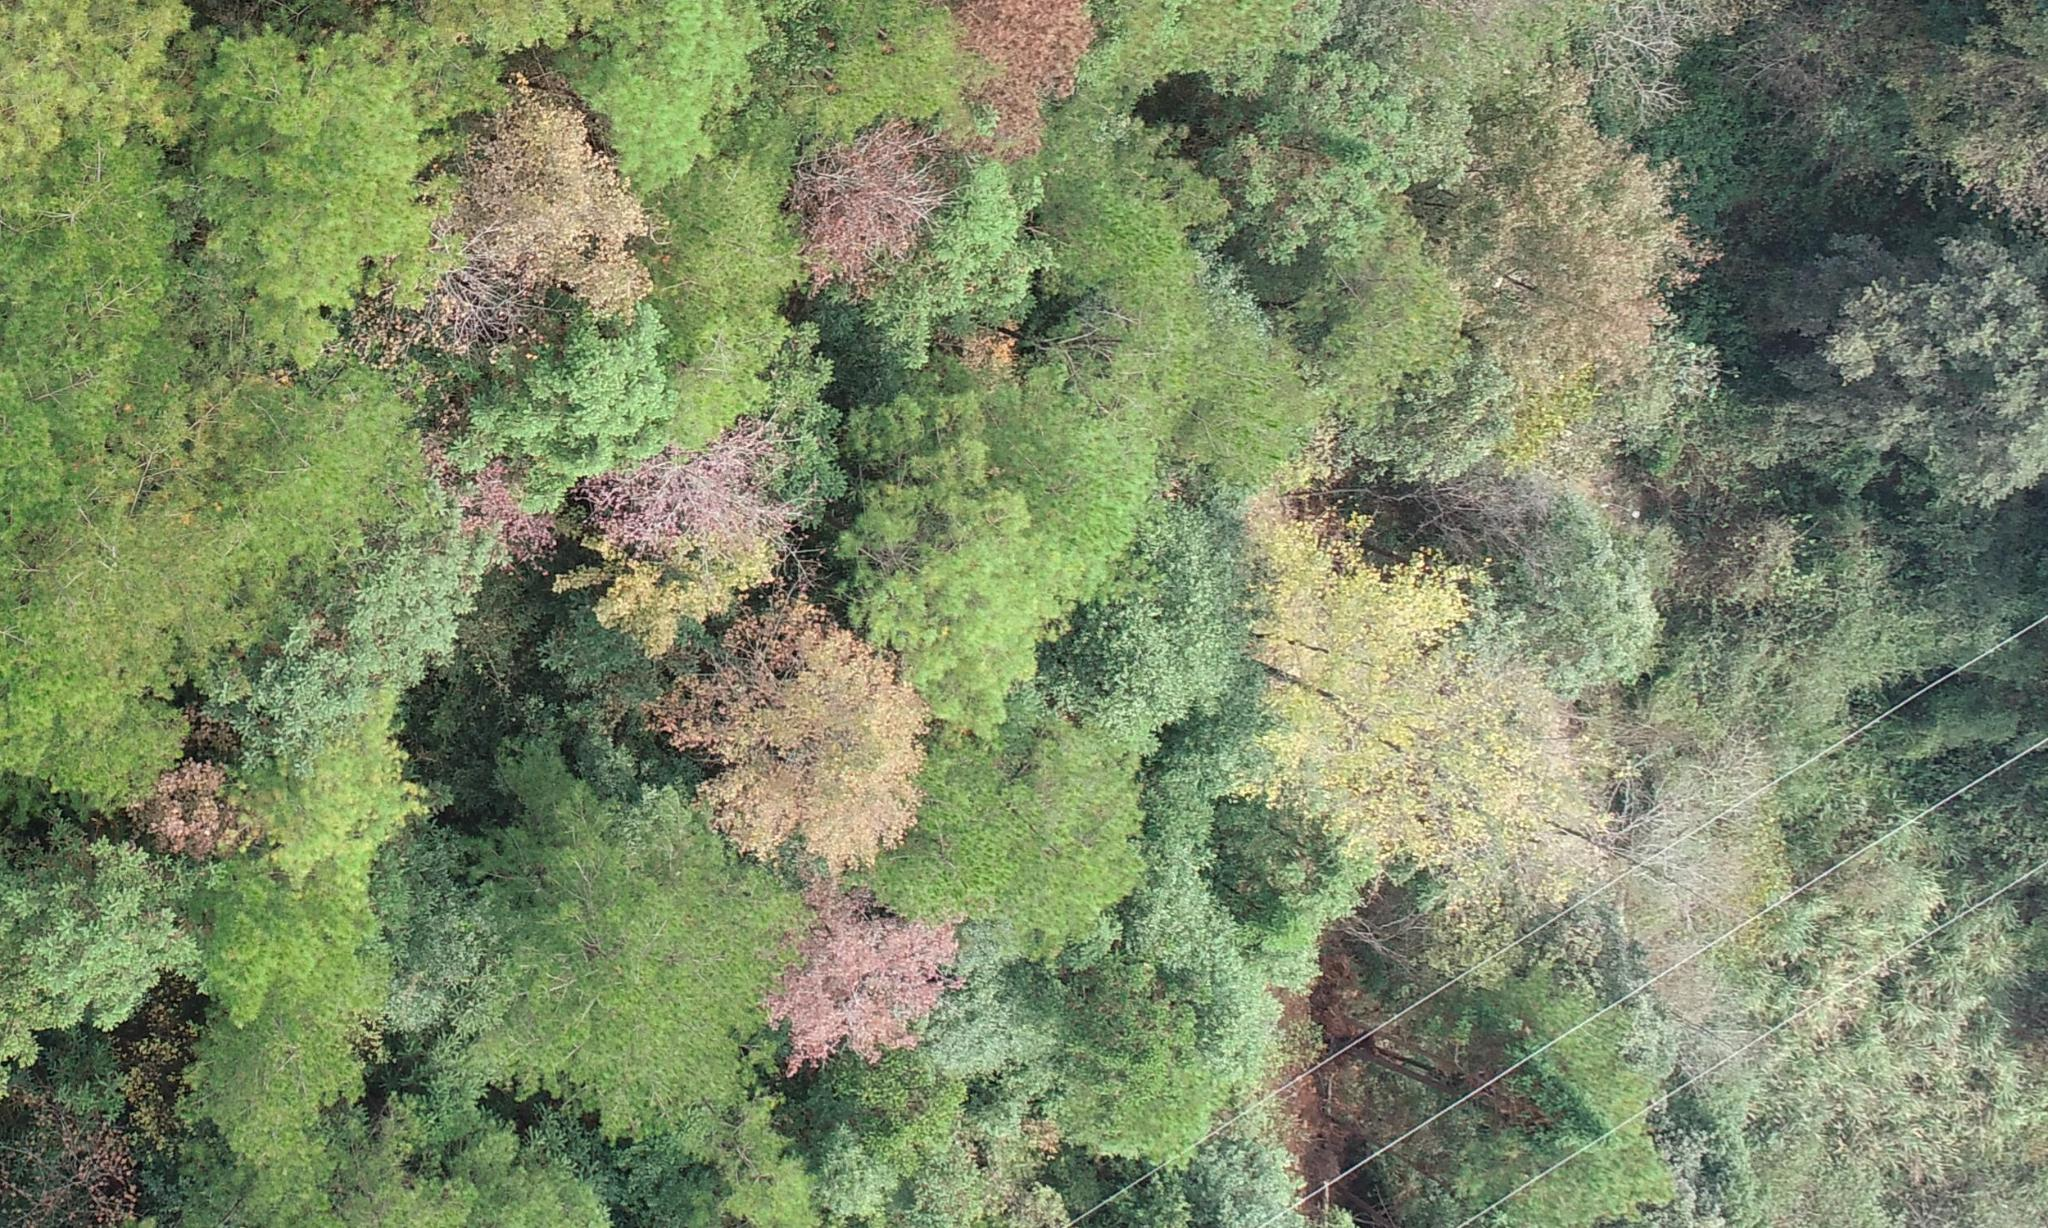dead: (569, 431, 827, 554)
heavy: (357, 91, 670, 371), (674, 585, 950, 879), (762, 903, 991, 1073), (915, 0, 1169, 148), (139, 746, 294, 868), (785, 145, 898, 275)
